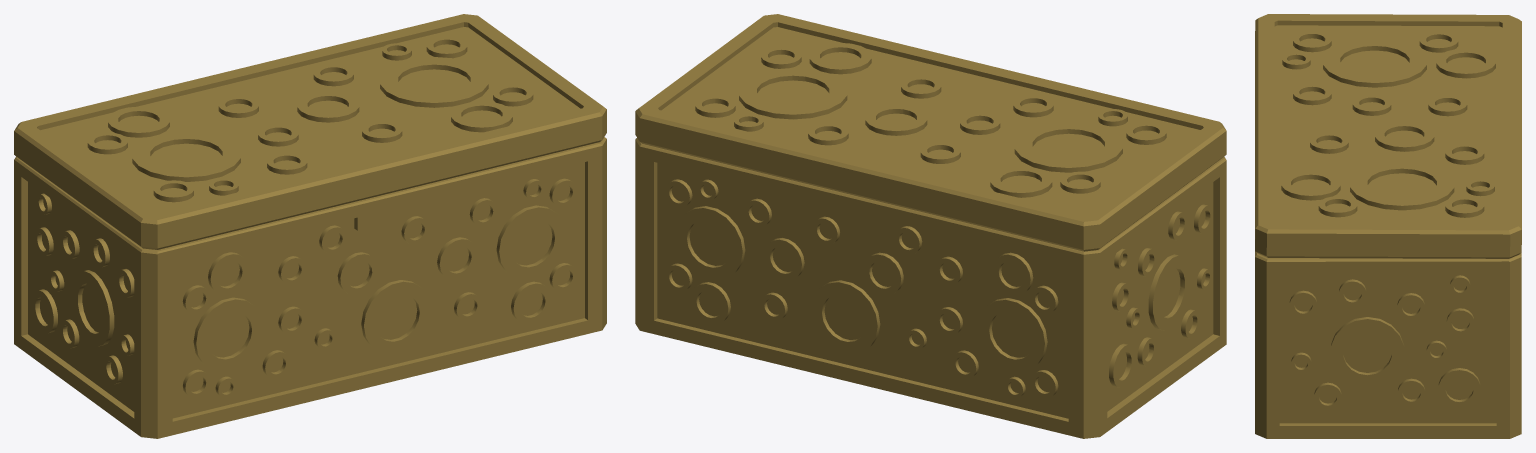
File: Chest.FBX
3 views of the same model, side by side, from view 1: azimuth 30°, elevation 25°; view 2: azimuth 150°, elevation 25°; view 3: azimuth 270°, elevation 25° (orthographic). The views are drawn at different scales.
Visible parts, largest first — view 1: Box501, Box505, Cylinder838, Cylinder830, Cylinder846, Cylinder917, Cylinder843, Cylinder827, Cylinder829, Cylinder837, Cylinder915; view 2: Box501, Box505, Cylinder852, Cylinder860, Cylinder867, Cylinder917, Cylinder865, Cylinder849, Cylinder851, Cylinder859, Cylinder915; view 3: Box505, Box501, Cylinder894, Cylinder893, Cylinder895, Cylinder909, Cylinder890, Cylinder892, Cylinder898, Cylinder896.
Boxes of the visible parts, left/top/right/bottom form: Box501: left=14, top=137, right=606, bottom=438; Box505: left=14, top=14, right=606, bottom=249; Cylinder838: left=496, top=205, right=566, bottom=279; Cylinder830: left=193, top=297, right=263, bottom=371; Cylinder846: left=361, top=280, right=430, bottom=353; Cylinder917: left=71, top=270, right=114, bottom=346; Cylinder843: left=337, top=252, right=378, bottom=295; Cylinder827: left=437, top=237, right=477, bottom=280; Cylinder829: left=208, top=252, right=248, bottom=295; Cylinder837: left=511, top=281, right=551, bottom=324; Cylinder915: left=31, top=289, right=57, bottom=333; Box501: left=635, top=138, right=1226, bottom=438; Box505: left=635, top=14, right=1226, bottom=251; Cylinder852: left=978, top=298, right=1047, bottom=371; Cylinder860: left=675, top=206, right=745, bottom=279; Cylinder867: left=810, top=280, right=880, bottom=353; Cylinder917: left=1148, top=254, right=1191, bottom=330; Cylinder865: left=863, top=252, right=903, bottom=295; Cylinder849: left=763, top=238, right=804, bottom=280; Cylinder851: left=992, top=252, right=1033, bottom=295; Cylinder859: left=690, top=282, right=730, bottom=324; Cylinder915: left=1109, top=343, right=1135, bottom=387; Box505: left=1255, top=14, right=1521, bottom=258; Box501: left=1255, top=251, right=1521, bottom=438; Cylinder894: left=1331, top=317, right=1404, bottom=386; Cylinder893: left=1438, top=368, right=1480, bottom=408; Cylinder895: left=1314, top=382, right=1341, bottom=409; Cylinder909: left=1397, top=293, right=1424, bottom=320; Cylinder890: left=1446, top=308, right=1474, bottom=335; Cylinder892: left=1398, top=378, right=1425, bottom=405; Cylinder898: left=1339, top=279, right=1366, bottom=306; Cylinder896: left=1289, top=290, right=1316, bottom=317.
Size of the model in its own units: 165 by 73.71 by 85.57.
